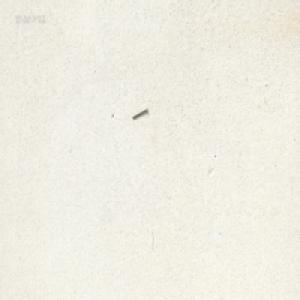Bolt: (131, 106, 147, 119)
